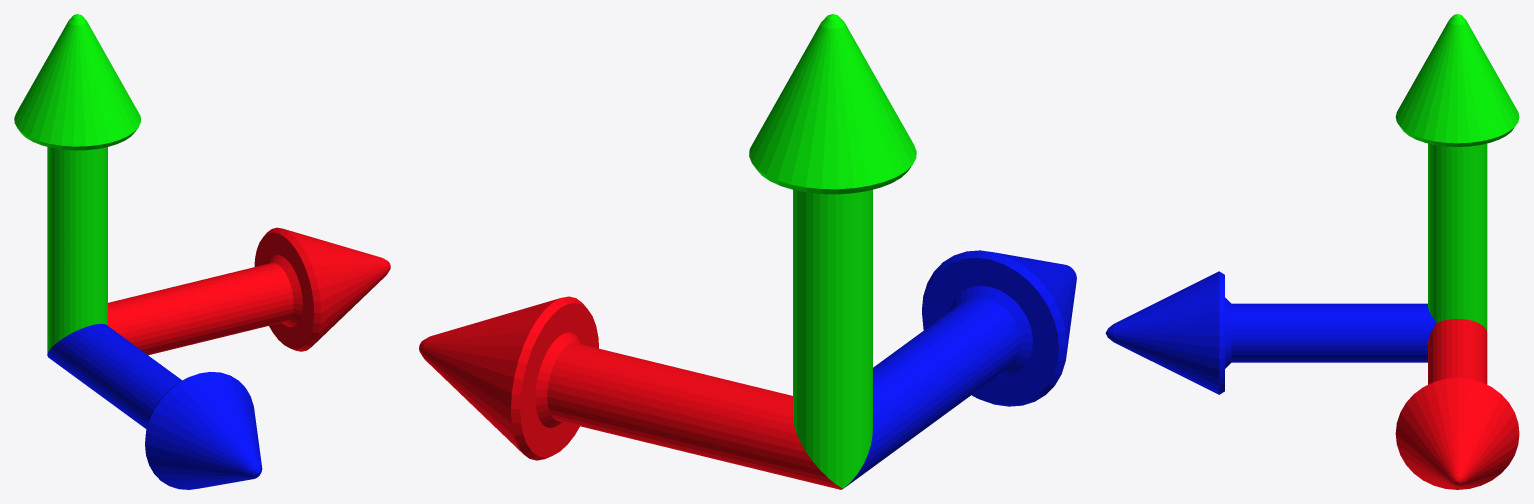
File: gizmo.gltf
3 renders of one model, left to right at view 1: azimuth 30°, elevation 25°; view 2: azimuth 150°, elevation 25°; view 3: azimuth 270°, elevation 25°, orthographic. The views are drawn at different scales.
Visible parts, largest first — view 1: gizmo; view 2: gizmo; view 3: gizmo.
Boxes of the visible parts, box(x1,y1,x2,y2) form: gizmo: box(14, 14, 390, 489); gizmo: box(419, 14, 1076, 489); gizmo: box(1105, 14, 1519, 489).
Bounding box in the file's own units: 0.6386 × 0.6386 × 0.6386.
